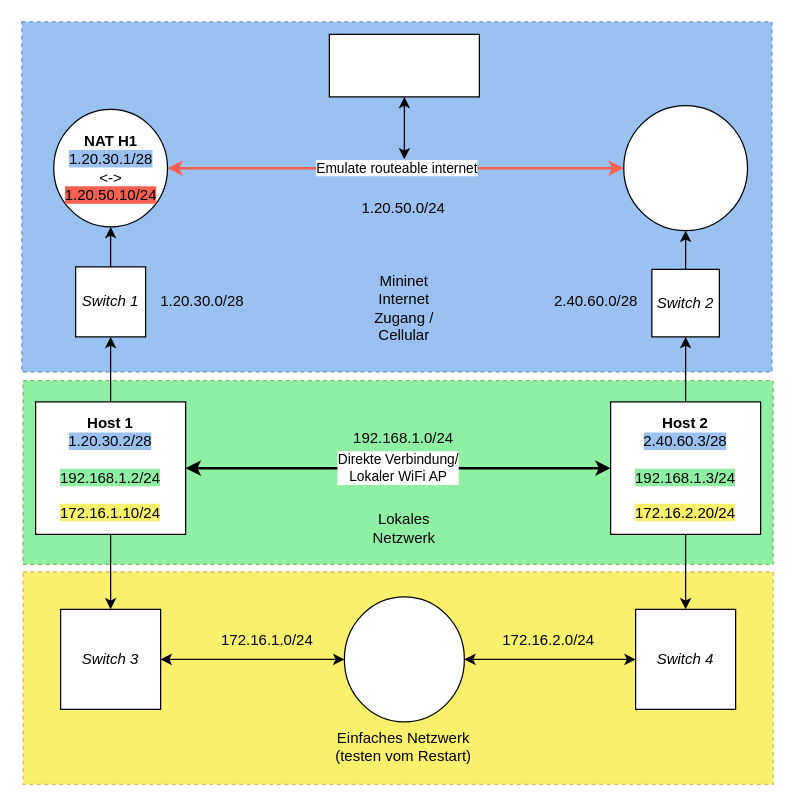
Image size: 795x806. Some labels were removed from this diagram. Each missing label, with the box of its shape:
NAT H2 2.40.60.1/28 <-> 1.20.50.20/24: (622, 104, 748, 231)
NAT Lokal 172.16.1.1/24 <-> 172.16.2.1/24: (343, 596, 464, 722)
Turn 1.20.50.100/24: (328, 33, 479, 97)
